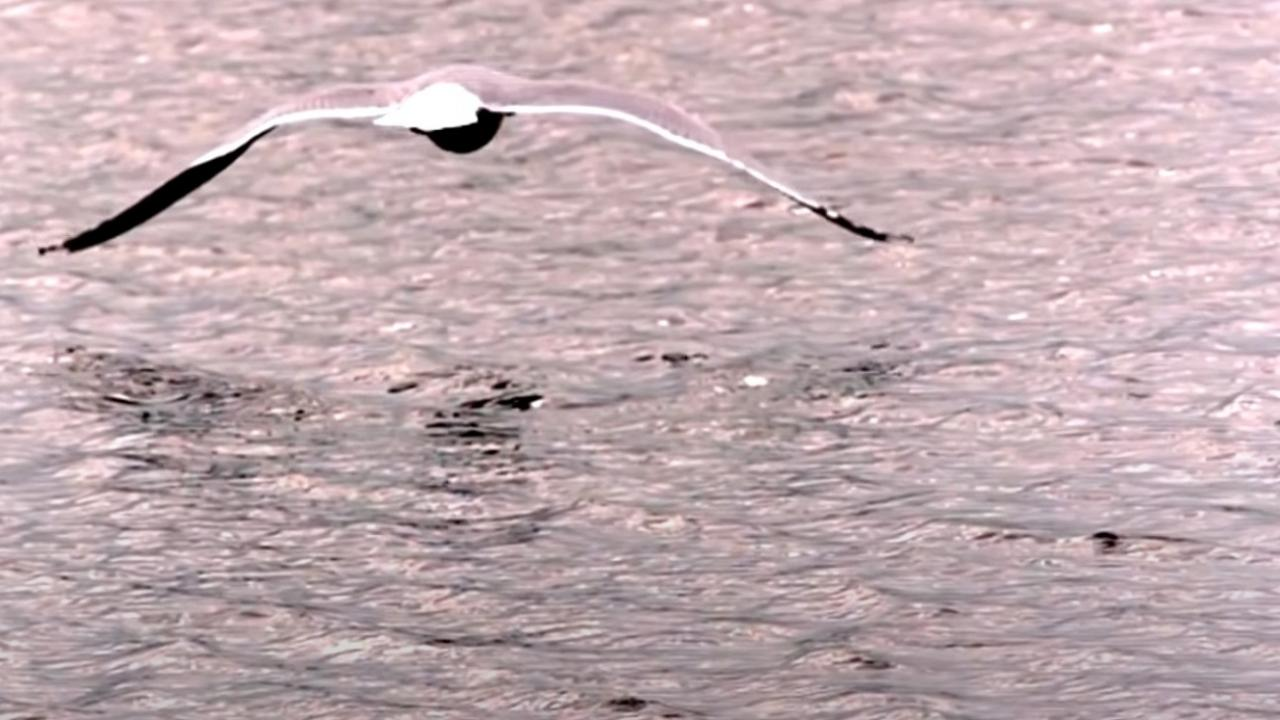Bird: (32, 59, 919, 264)
